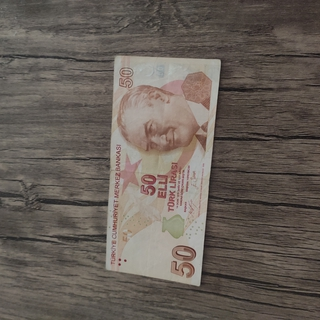50TLFront: (104, 54, 221, 286)
